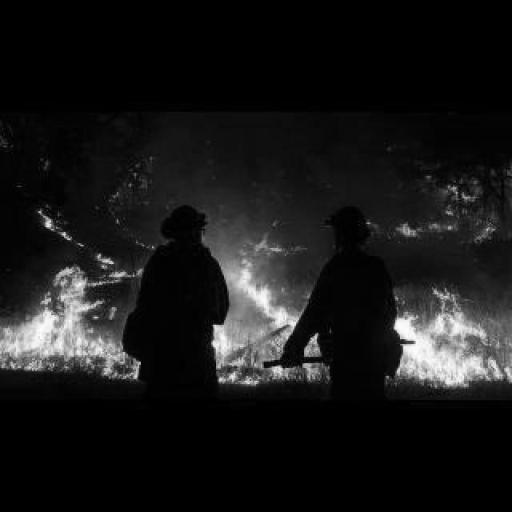smoke: (5, 240, 510, 387)
